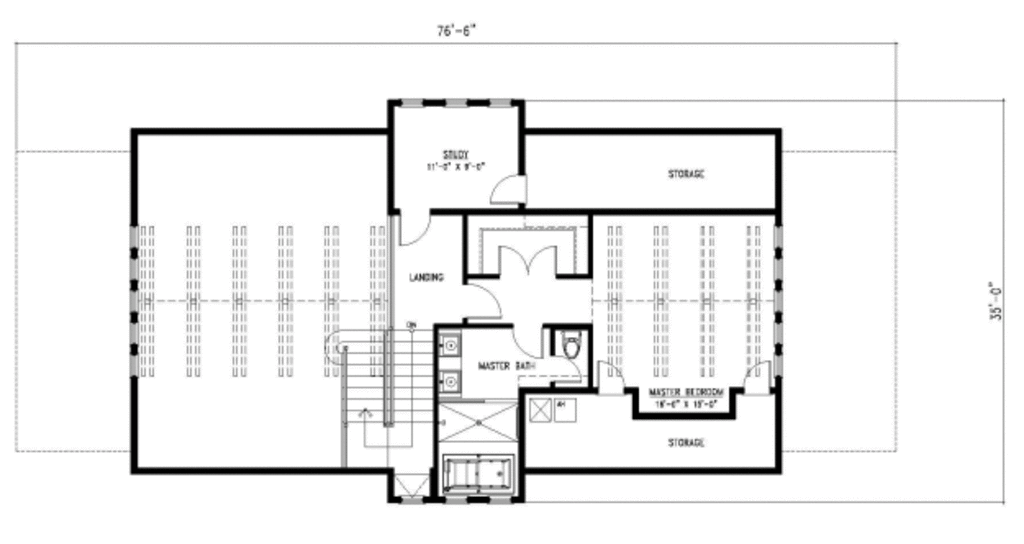door: (495, 246, 558, 280), (462, 278, 507, 321), (512, 322, 550, 359), (489, 171, 529, 204), (592, 356, 626, 393), (397, 208, 430, 244), (742, 362, 772, 394)
large_sink: (593, 359, 628, 397), (562, 324, 582, 361)
stairs: (321, 320, 434, 470)
windows: (125, 223, 141, 380), (771, 221, 786, 378), (396, 96, 516, 112)
